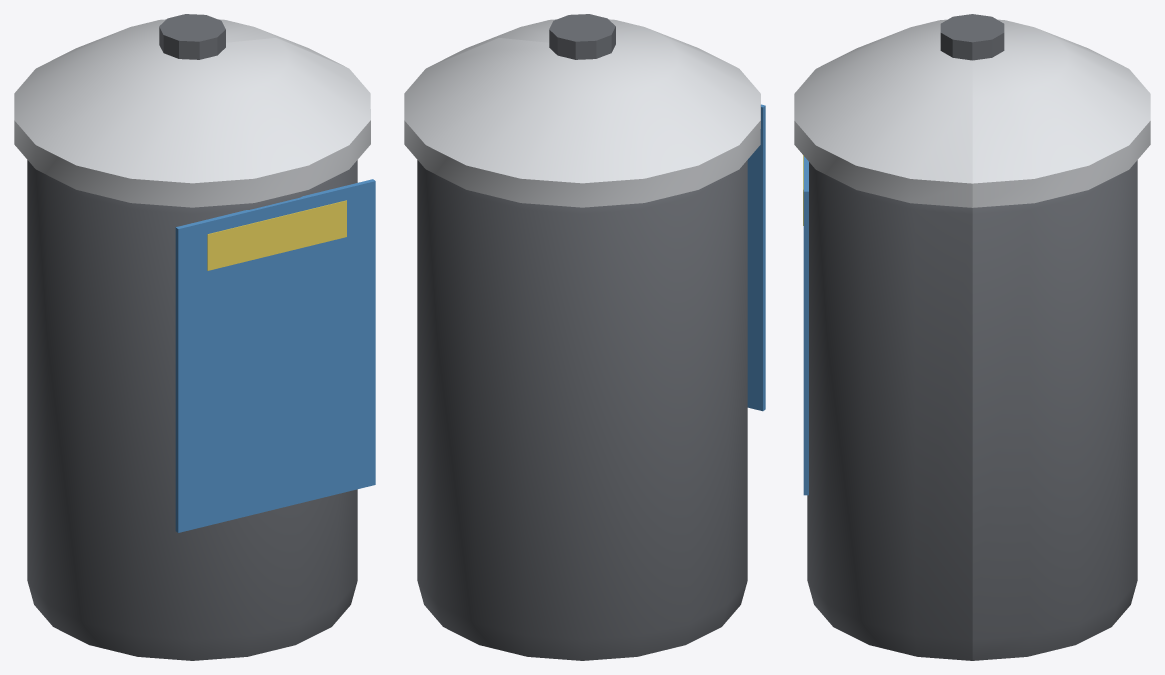
File: public-swimming-baths-and-poolside-foyer-bin-7c56238f.glb
3 renders of one model, left to right at view 1: azimuth 30°, elevation 25°; view 2: azimuth 150°, elevation 25°; view 3: azimuth 270°, elevation 25°, orthographic.
Visible parts, largest first — view 1: foyer-bin, bin-lid/metal, bin-lid/frame; view 2: foyer-bin, bin-lid/metal, bin-lid/frame; view 3: foyer-bin, bin-lid/metal, bin-lid/frame.
Boxes of the visible parts, x1,y1,x2,y2 form: foyer-bin: [27, 160, 375, 660]; bin-lid/metal: [14, 19, 370, 207]; bin-lid/frame: [159, 14, 225, 59]; foyer-bin: [417, 104, 765, 660]; bin-lid/metal: [404, 19, 760, 207]; bin-lid/frame: [549, 14, 615, 59]; foyer-bin: [803, 155, 1137, 660]; bin-lid/metal: [794, 19, 1150, 207]; bin-lid/frame: [940, 14, 1004, 60].
Size of the model in its own units: 0.54 by 0.93 by 0.5318.
